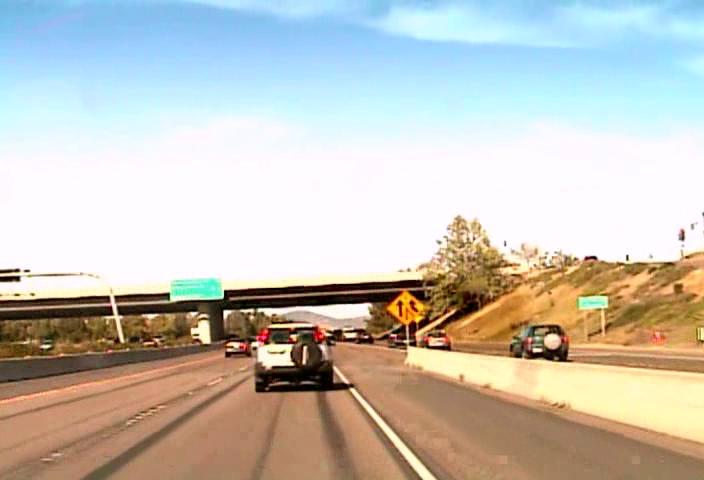addedLane: (384, 289, 426, 326)
